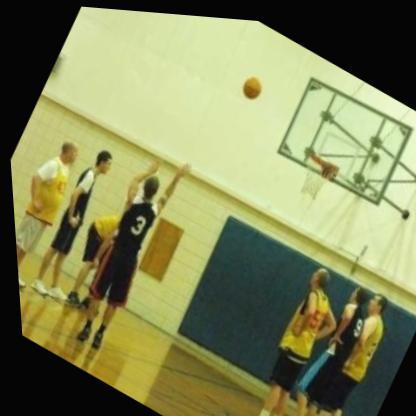basketball: (233, 63, 271, 103)
